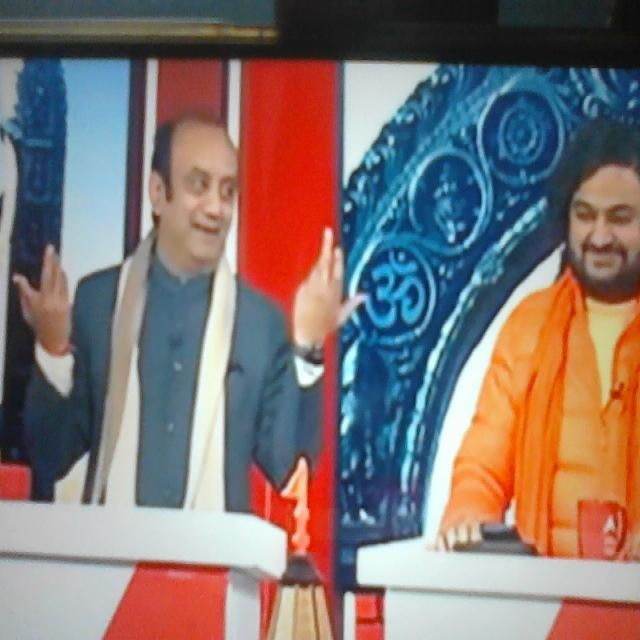fake: (138, 61, 254, 280)
